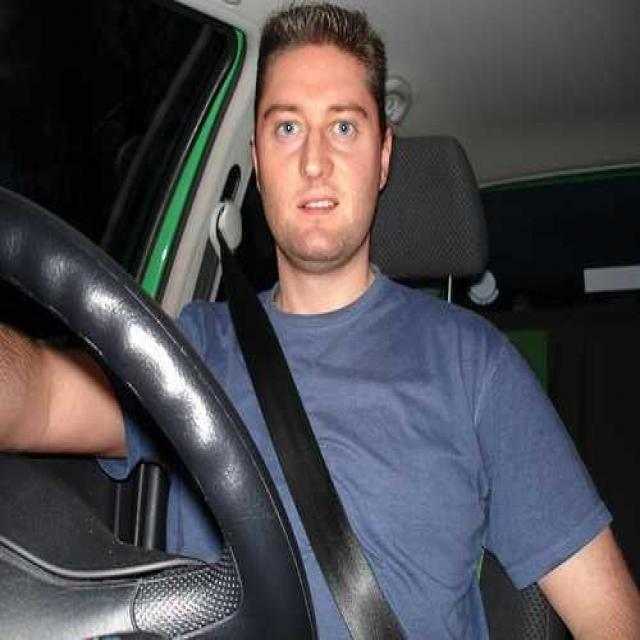seatbelt: (201, 210, 402, 604)
